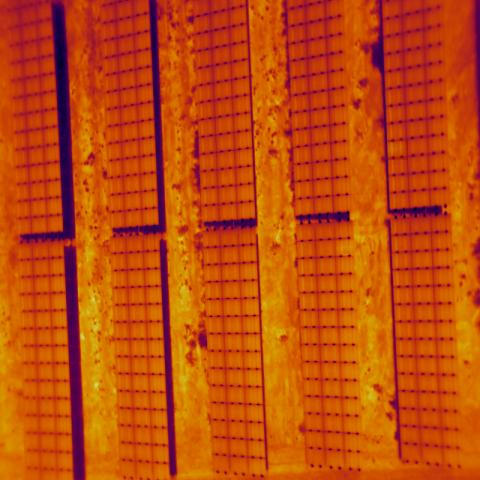fault: (388, 140, 408, 160)
